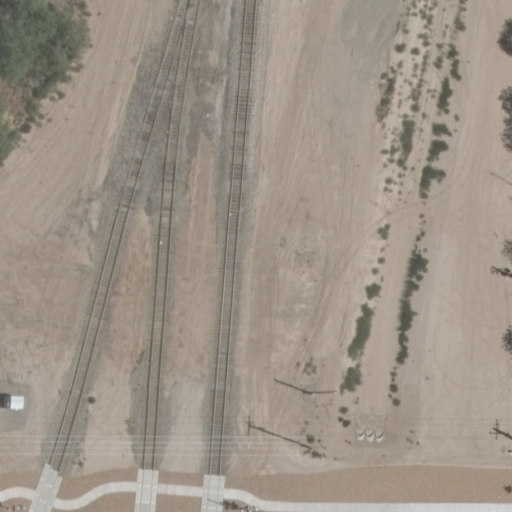DT: (280, 433, 319, 460)
